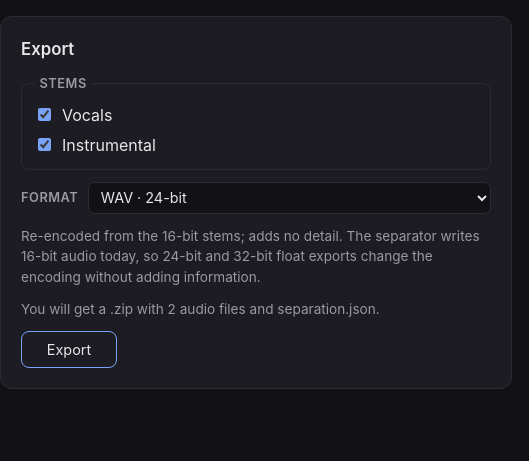
Test case: ExportPanel errors › explains a stale stem selection
Click the button "Export" at (69, 350), box x1=21 y1=331 x2=117 y2=368
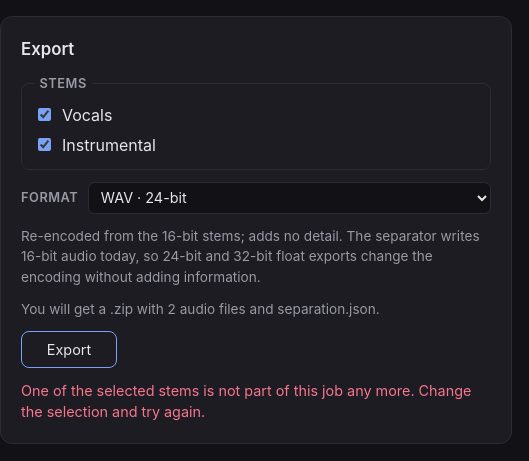
Expected: the message shows "not part of this job any more", x1=21 y1=382 x2=471 y2=420
